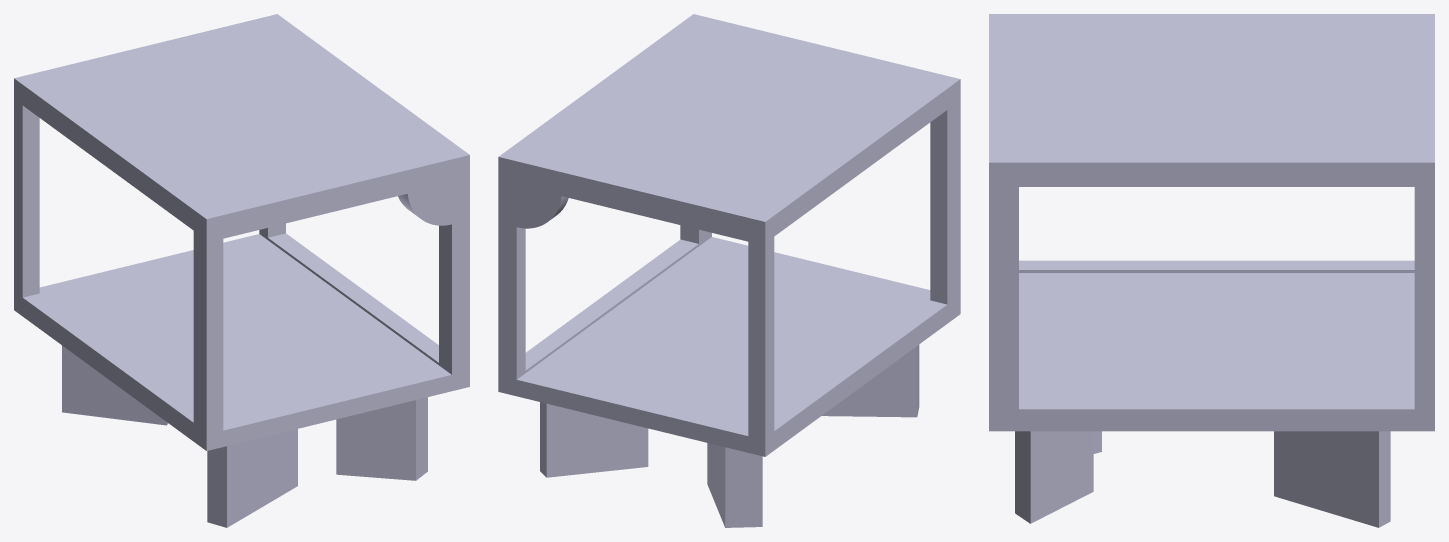
The model's file is krytn_tray_Krytn_tray.dae.
3 renders of one model, left to right at view 1: azimuth 30°, elevation 25°; view 2: azimuth 150°, elevation 25°; view 3: azimuth 270°, elevation 25°, orthographic. The views are drawn at different scales.
Visible parts, largest first — view 1: node0; view 2: node0; view 3: node0.
Boxes of the visible parts, <box> form: node0: <box>14,14,469,527</box>; node0: <box>498,14,960,527</box>; node0: <box>989,14,1434,527</box>.
Bounding box in the file's own units: 0.2764 × 0.35 × 0.3246.
